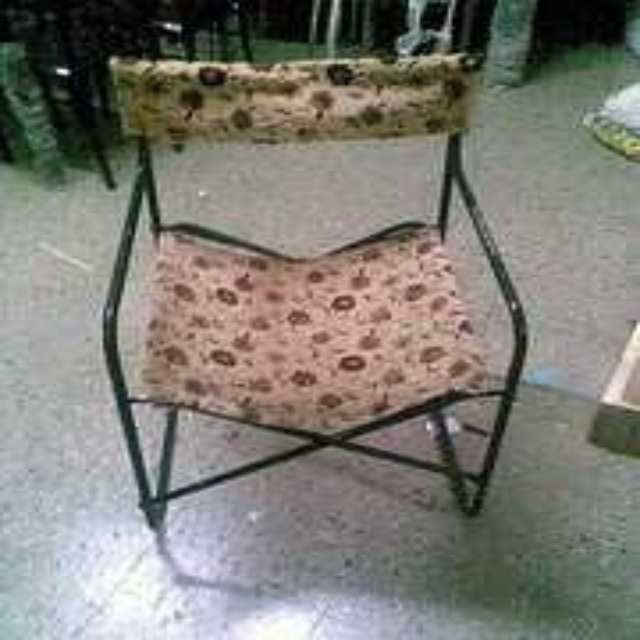obstacle: (103, 56, 523, 528)
